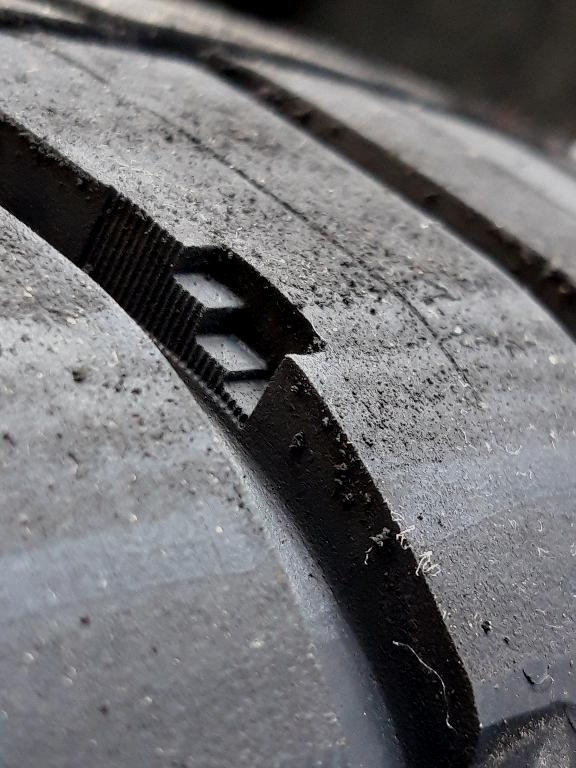temoin:75: (112, 211, 335, 438)
